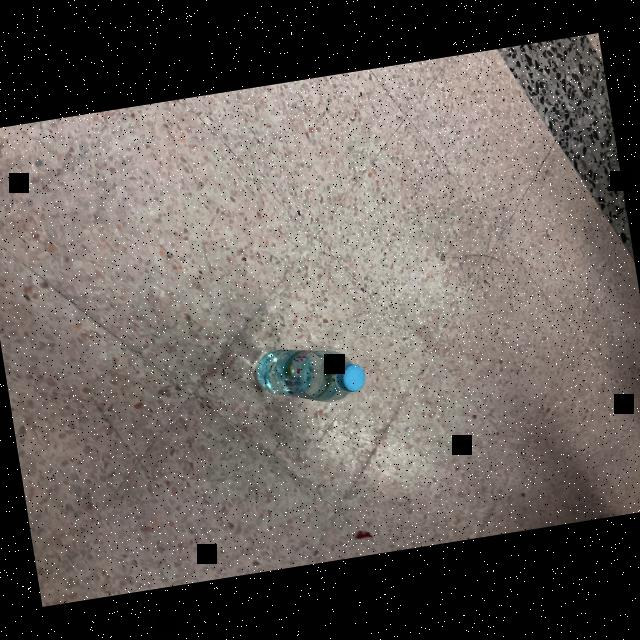plastic_bottle: (248, 334, 366, 412)
